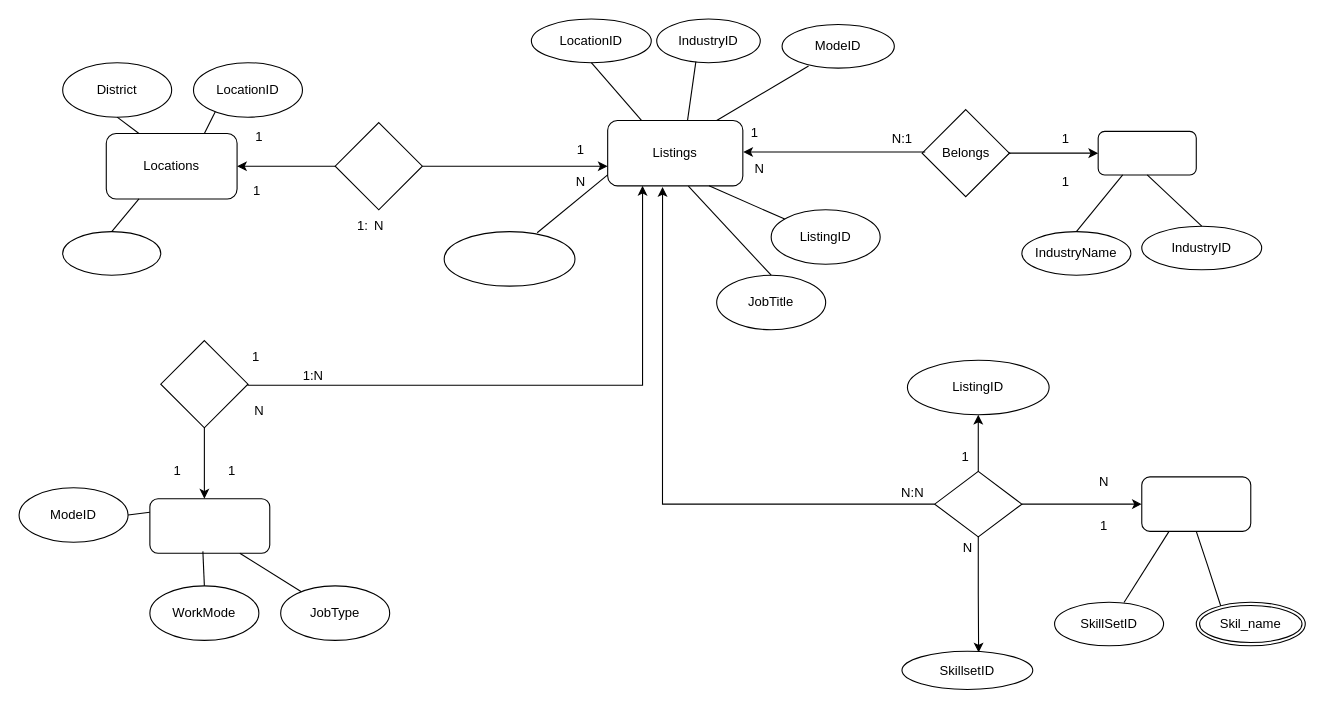
Some shapes in this 1324 by 709 pixel diagram are drawn without their labels. The shapes that lost their labels are listed below. From the top down, each one's centre as x and y in pixels, then its label:
At (x=378, y=166): "Located".
At (x=1146, y=152): "Industry".
At (x=111, y=253): "City".
At (x=509, y=258): "CompanyName".
At (x=204, y=384): "Having".
At (x=978, y=503): "Have".
At (x=1196, y=503): "SkillSets".
At (x=209, y=525): "JobMode".
